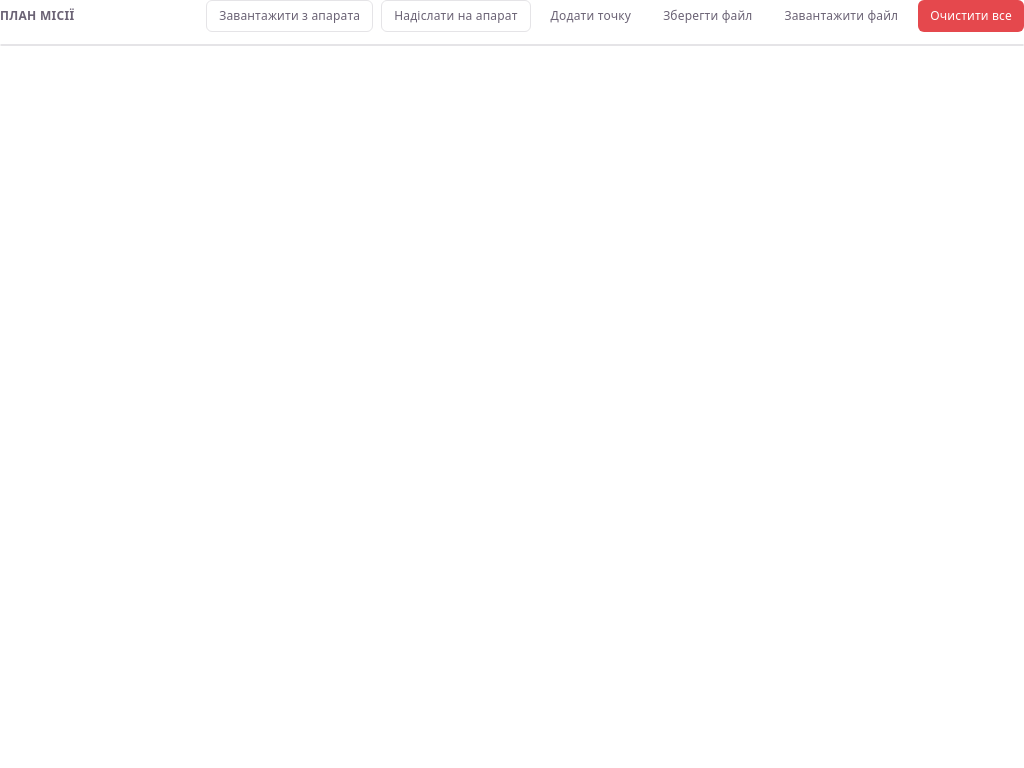
Scenario: MissionPlanSection › cancelling the Clear-all confirmation keeps every item
The image size is (1024, 768).
Click the button "Очистити все": click(971, 16) [918, 0, 1023, 32]
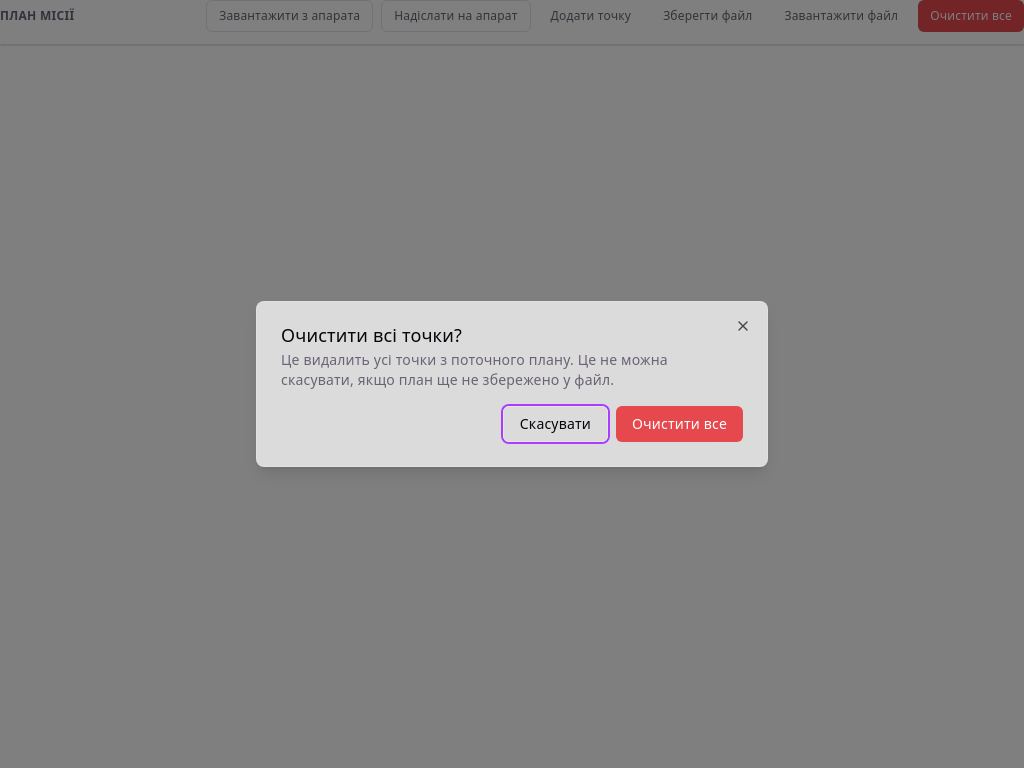
Click the button "Скасувати": click(555, 424) [503, 406, 608, 442]
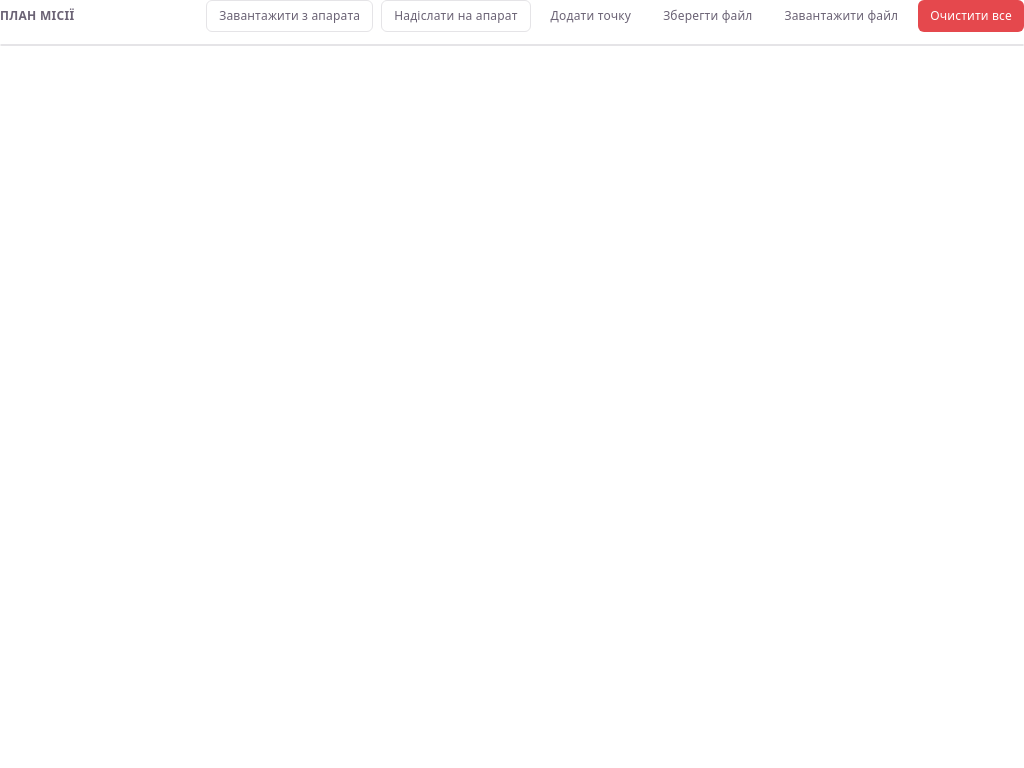
expect the dialog is gone: met
